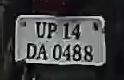0: (53, 44, 62, 61)
1: (61, 20, 70, 40)
4: (71, 22, 84, 41), (62, 44, 72, 63)
8: (82, 45, 95, 63), (72, 43, 83, 63)
A: (37, 42, 51, 60)
D: (25, 39, 37, 60)
P: (46, 20, 60, 42)
U: (33, 21, 47, 40)
